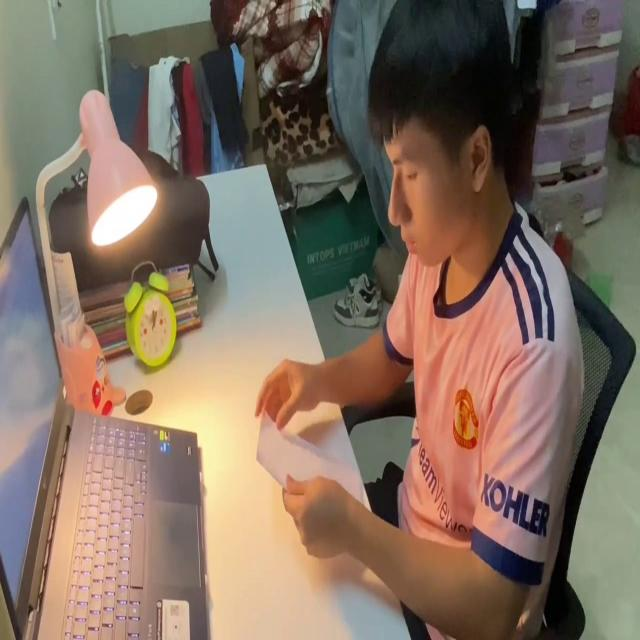book: (256, 407, 368, 516)
laptop: (1, 191, 211, 640)
student: (251, 0, 585, 640)
